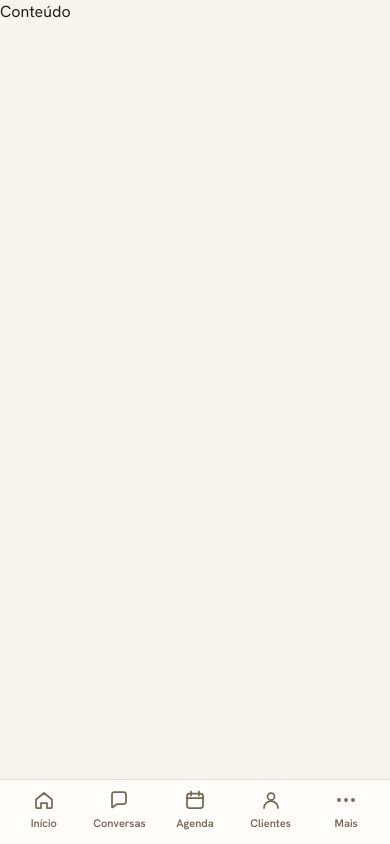
it: a casca em cada largura › 600 px, em Serviços: a aba Serviços fica ativa, o 'Mais' não, e ele lista só Faturamento, Notificações e Configurações
Click the button "Mais": (346, 812) [314,780,378,843]
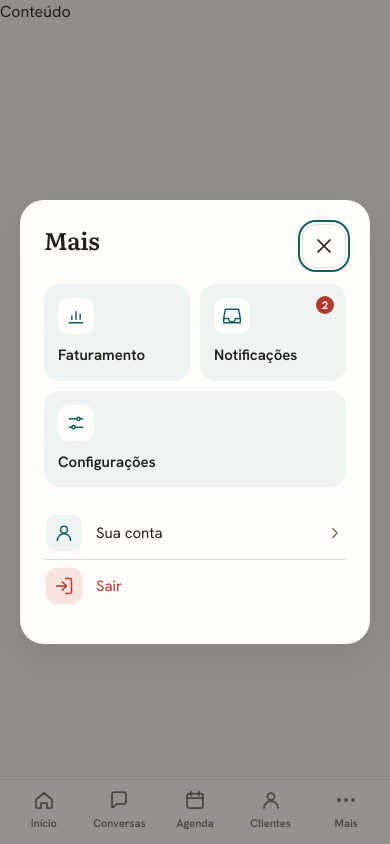
Expected: the button "Sair" is shown, [44,560,346,612]
